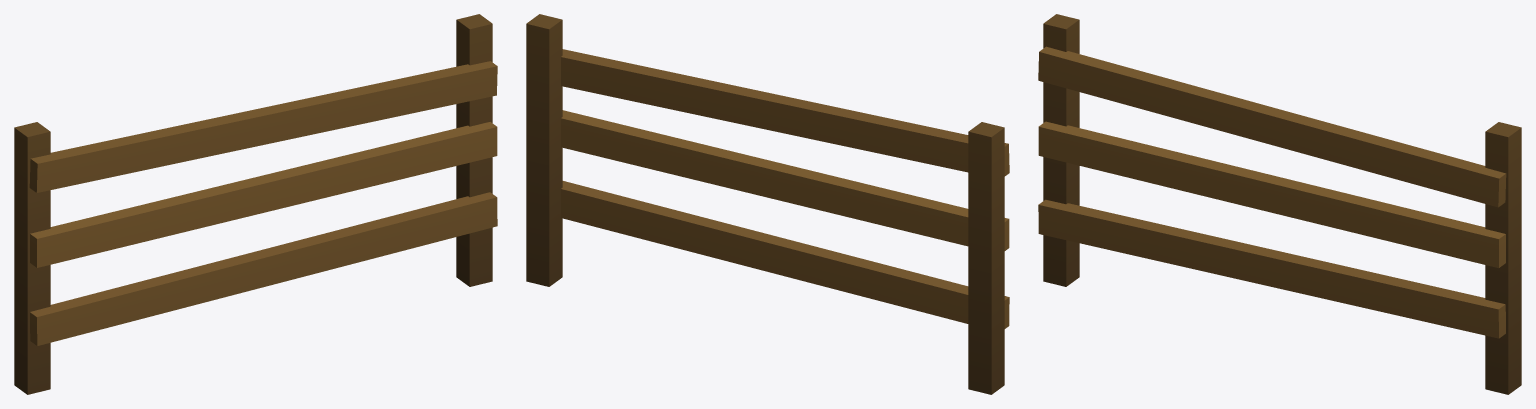
Rendered from Fence_01.fbx.
The picture shows the model from 3 angles, left to right: view 1: azimuth 30°, elevation 25°; view 2: azimuth 150°, elevation 25°; view 3: azimuth 330°, elevation 25°; orthographic projection.
Parts seen in each view (by area): view 1: Fence_01; view 2: Fence_01; view 3: Fence_01.
Part boxes in pixels (<box>): Fence_01: <box>14,14,497,394</box>; Fence_01: <box>526,14,1009,394</box>; Fence_01: <box>1038,14,1521,394</box>.
Size of the model in its own units: 2.77 by 1.47 by 0.2099.
